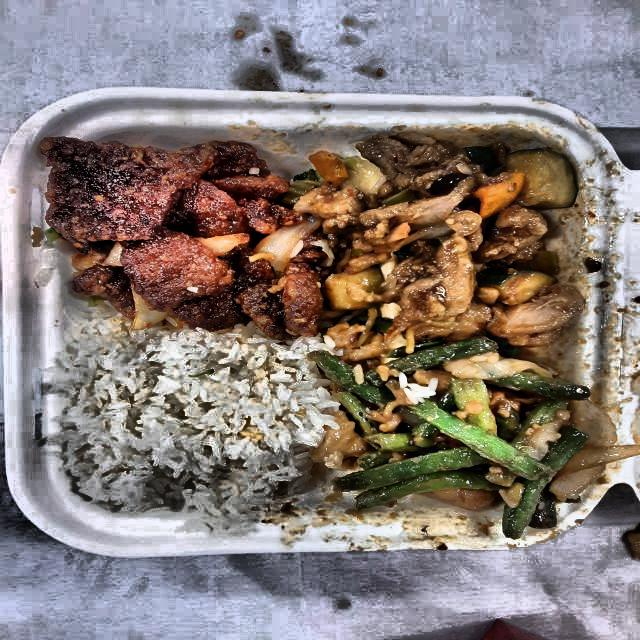Food: (299, 122, 578, 342), (40, 128, 315, 330), (52, 324, 326, 526), (328, 333, 594, 527)
